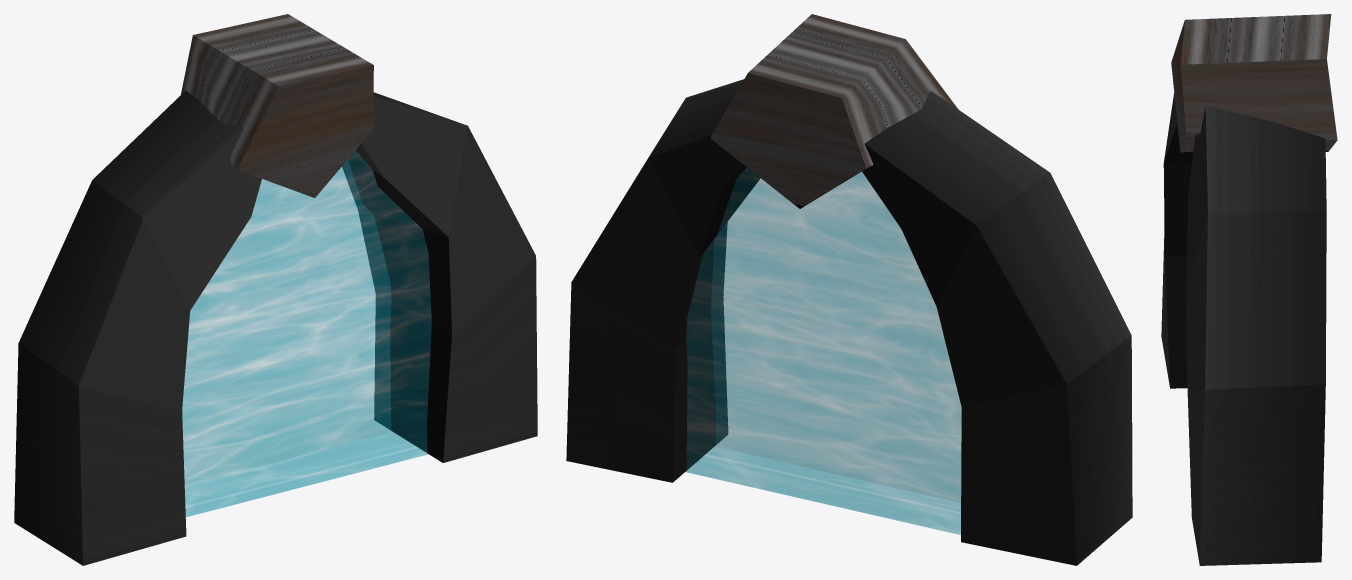
The model's file is portal.gltf.
3 views of the same model, side by side, from view 1: azimuth 30°, elevation 25°; view 2: azimuth 150°, elevation 25°; view 3: azimuth 270°, elevation 25° (orthographic). The views are drawn at different scales.
Visible parts, largest first — view 1: Cube.002_1, Cube.005_3, Cube.001_0, Cube.003_2; view 2: Cube.005_3, Cube.002_1, Cube.001_0, Cube.003_2; view 3: Cube.001_0, Cube.003_2, Cube.002_1.
Boxes of the visible parts, x1=… form: Cube.002_1: x1=14, y1=90, x2=261, y2=565; Cube.005_3: x1=182, y1=150, x2=431, y2=516; Cube.001_0: x1=342, y1=92, x2=537, y2=462; Cube.003_2: x1=181, y1=14, x2=373, y2=197; Cube.005_3: x1=686, y1=168, x2=961, y2=534; Cube.002_1: x1=862, y1=90, x2=1132, y2=565; Cube.001_0: x1=566, y1=79, x2=760, y2=482; Cube.003_2: x1=710, y1=14, x2=958, y2=208; Cube.001_0: x1=1185, y1=105, x2=1326, y2=565; Cube.003_2: x1=1171, y1=14, x2=1337, y2=153; Cube.002_1: x1=1161, y1=93, x2=1192, y2=388.
Size of the model in its own units: 6.6 by 5.51 by 2.1.
Materials: 3 (3 with a texture image).
